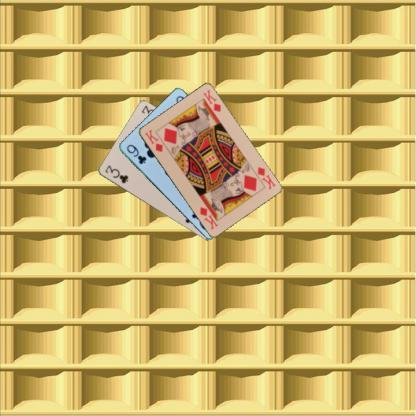3c: (102, 162, 130, 185)
9c: (124, 142, 147, 165)
Kd: (254, 164, 277, 191), (142, 127, 164, 154)
